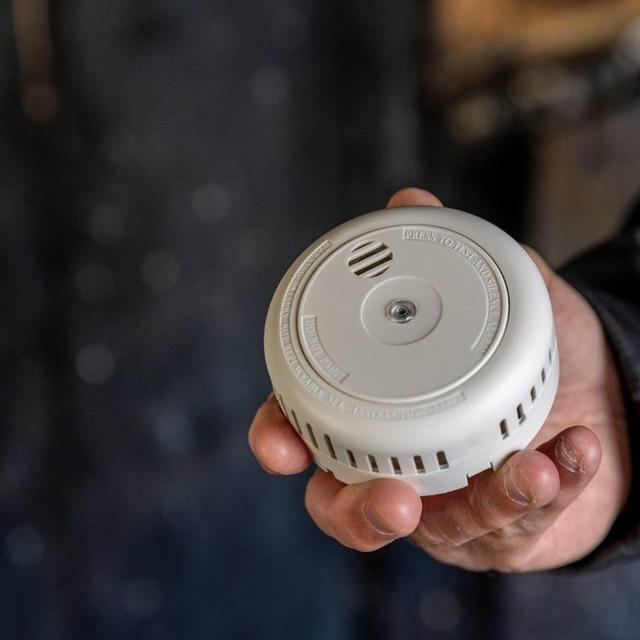Smoke-Detector: (264, 200, 544, 468)
